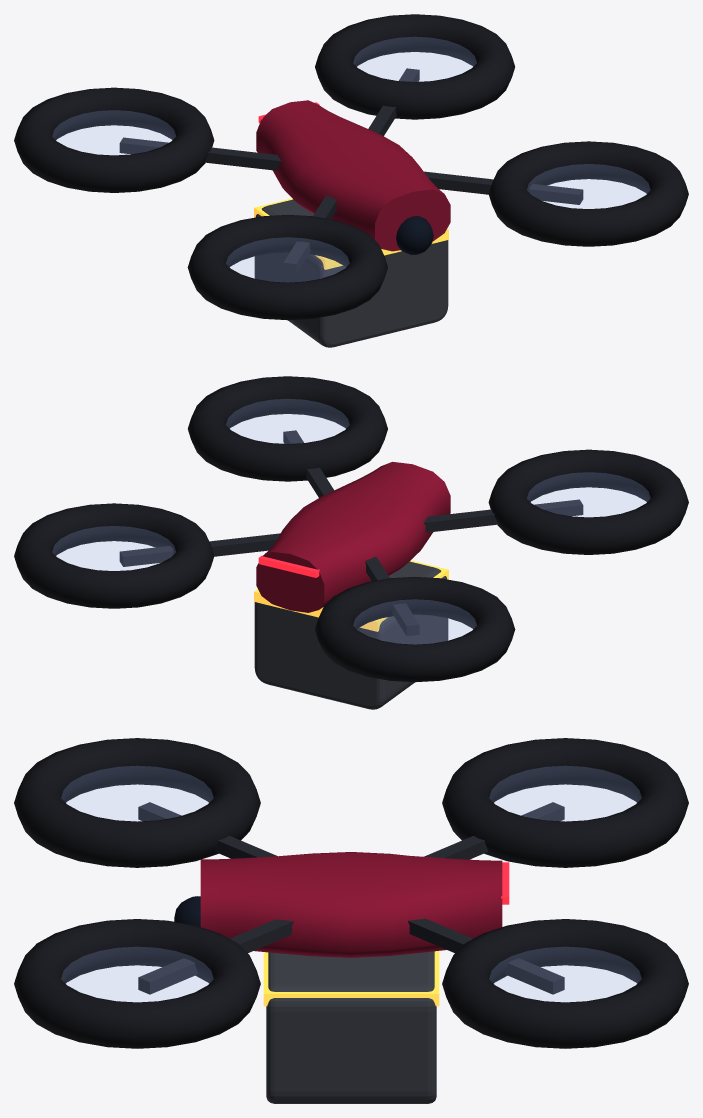
The model's file is tr_drone.glb.
3 renders of one model, top to bottom at view 1: azimuth 30°, elevation 25°; view 2: azimuth 150°, elevation 25°; view 3: azimuth 270°, elevation 25°, orthographic. The views are drawn at different scales.
Visible parts, largest first — view 1: paint2, rotor_disc, paint, cargo, trim, glass, light_amber; view 2: paint2, rotor_disc, paint, cargo, trim, light_amber, light_tail; view 3: paint2, paint, rotor_disc, cargo, trim, light_amber, glass.
Part boxes in pixels (x1=…): paint2: x1=14, y1=14, x2=688, y2=320; rotor_disc: x1=53, y1=37, x2=649, y2=281; paint: x1=256, y1=100, x2=450, y2=251; cargo: x1=254, y1=199, x2=448, y2=347; trim: x1=119, y1=68, x2=583, y2=273; glass: x1=396, y1=216, x2=433, y2=254; light_amber: x1=254, y1=198, x2=448, y2=269; paint2: x1=14, y1=376, x2=688, y2=682; rotor_disc: x1=53, y1=399, x2=649, y2=643; paint: x1=256, y1=461, x2=450, y2=612; cargo: x1=254, y1=561, x2=448, y2=709; trim: x1=119, y1=430, x2=583, y2=635; light_amber: x1=254, y1=560, x2=448, y2=631; light_tail: x1=258, y1=555, x2=319, y2=577; paint2: x1=14, y1=738, x2=688, y2=1048; paint: x1=200, y1=852, x2=502, y2=957; rotor_disc: x1=61, y1=766, x2=641, y2=1001; cargo: x1=266, y1=951, x2=436, y2=1103; trim: x1=138, y1=802, x2=564, y2=994; light_amber: x1=263, y1=951, x2=439, y2=1006; glass: x1=174, y1=896, x2=200, y2=926.
Bounding box in the file's own units: 2.46 × 0.815 × 2.46.
